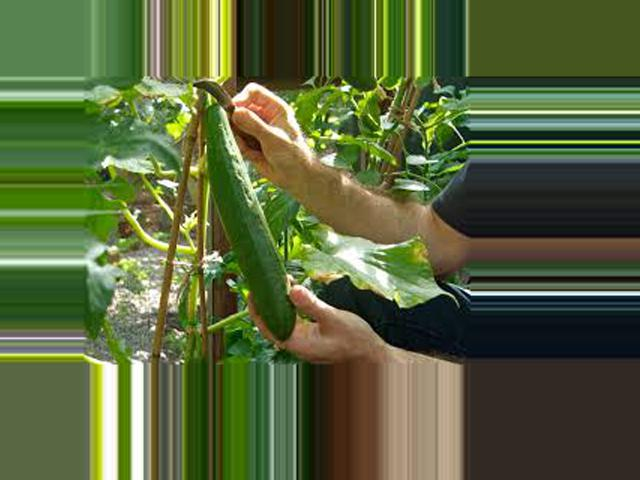cucumber: (204, 105, 295, 340)
